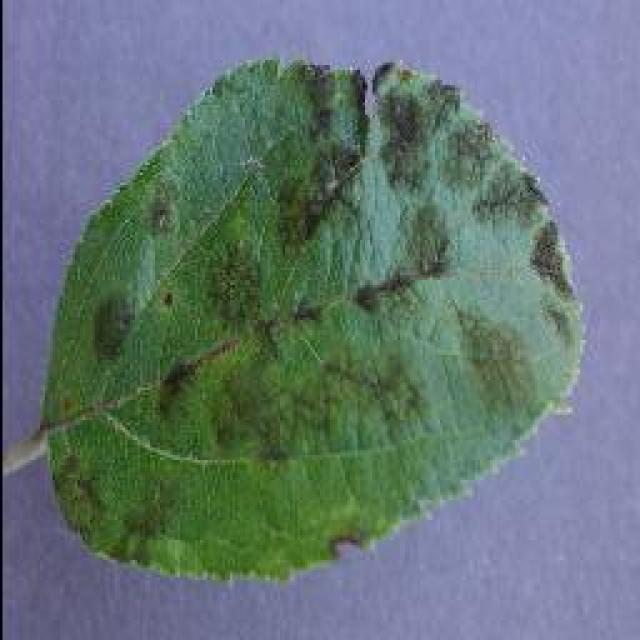apple scab disease: (32, 53, 588, 585)
